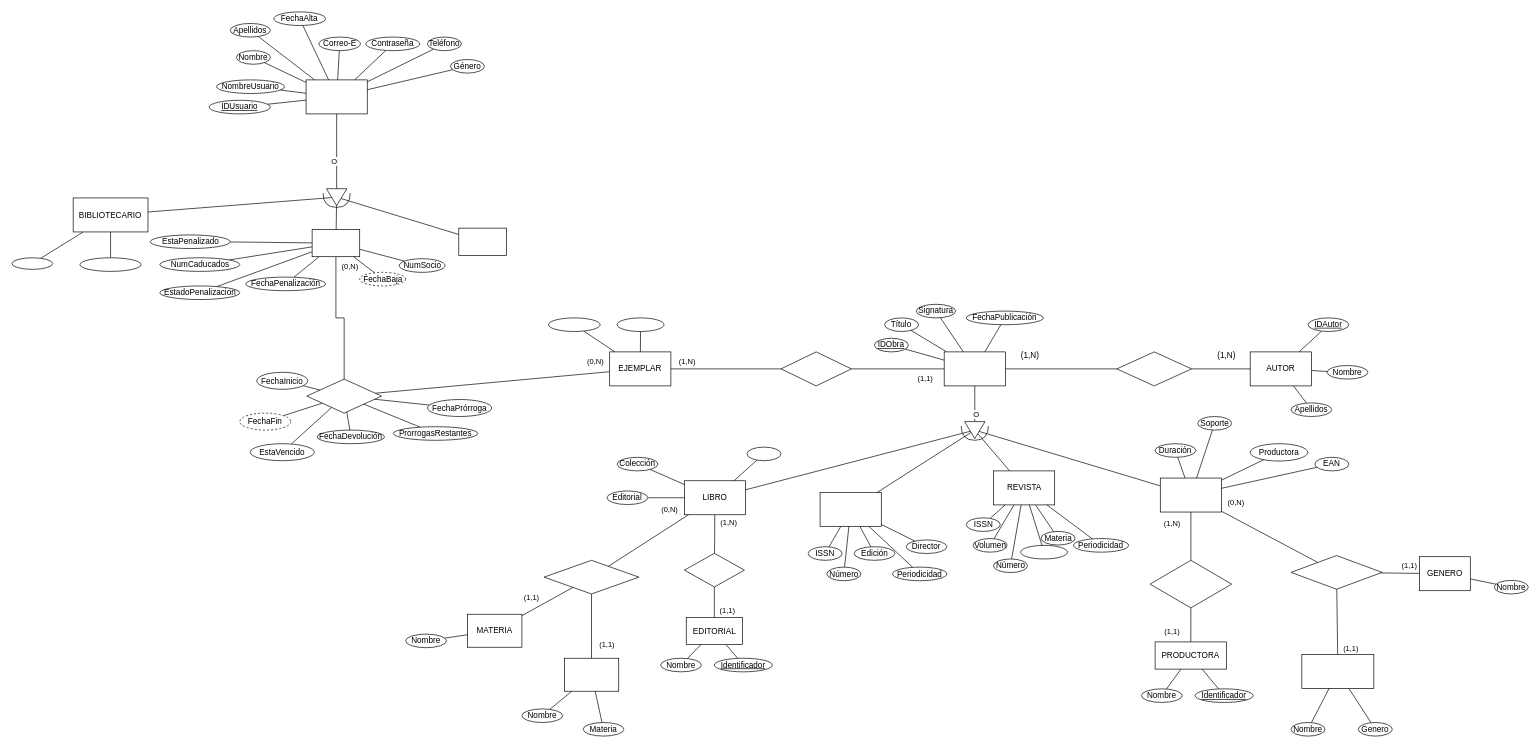
Image size: 1540x748. Some labels were removed from this diagram. The shapes that lost their labels are listed below. From the top down, each one's centre as x and y in pixels, then its label:
point 336,96: USUARIO
point 335,243: SOCIO
point 482,241: ADMIN
point 32,263: Turno
point 110,264: NumEmpleado
point 574,324: IDEjemplar
point 640,324: Reservado
point 815,368: CONSTITUIR
point 974,368: OBRA
point 1154,368: CREAR
point 344,395: PRESTAR
point 763,453: ISBN
point 850,509: PERIÓDICO
point 1190,494: GRABACIÓN
point 714,570: EDITAR
point 1043,552: Temporada
point 1336,572: CORRESPONDER
point 591,577: PERTENECER
point 1190,584: DISTRUBUIR
point 591,674: SUBMATERIA
point 1337,671: SUBGENERO
